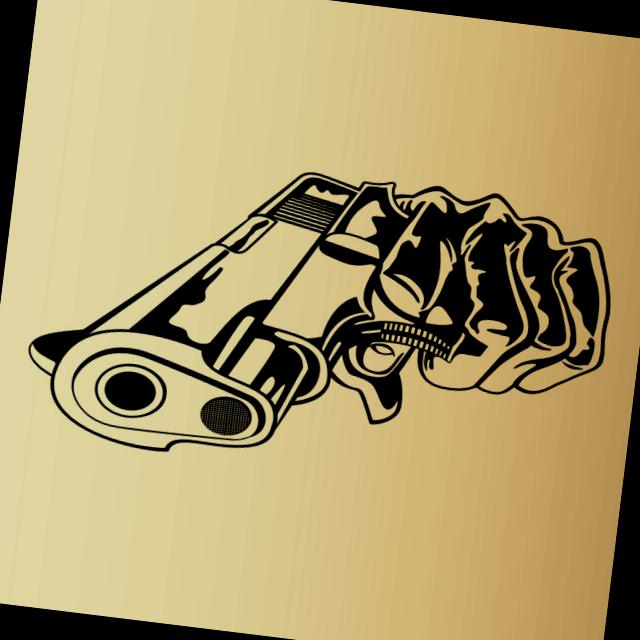handgun: (0, 132, 621, 504)
